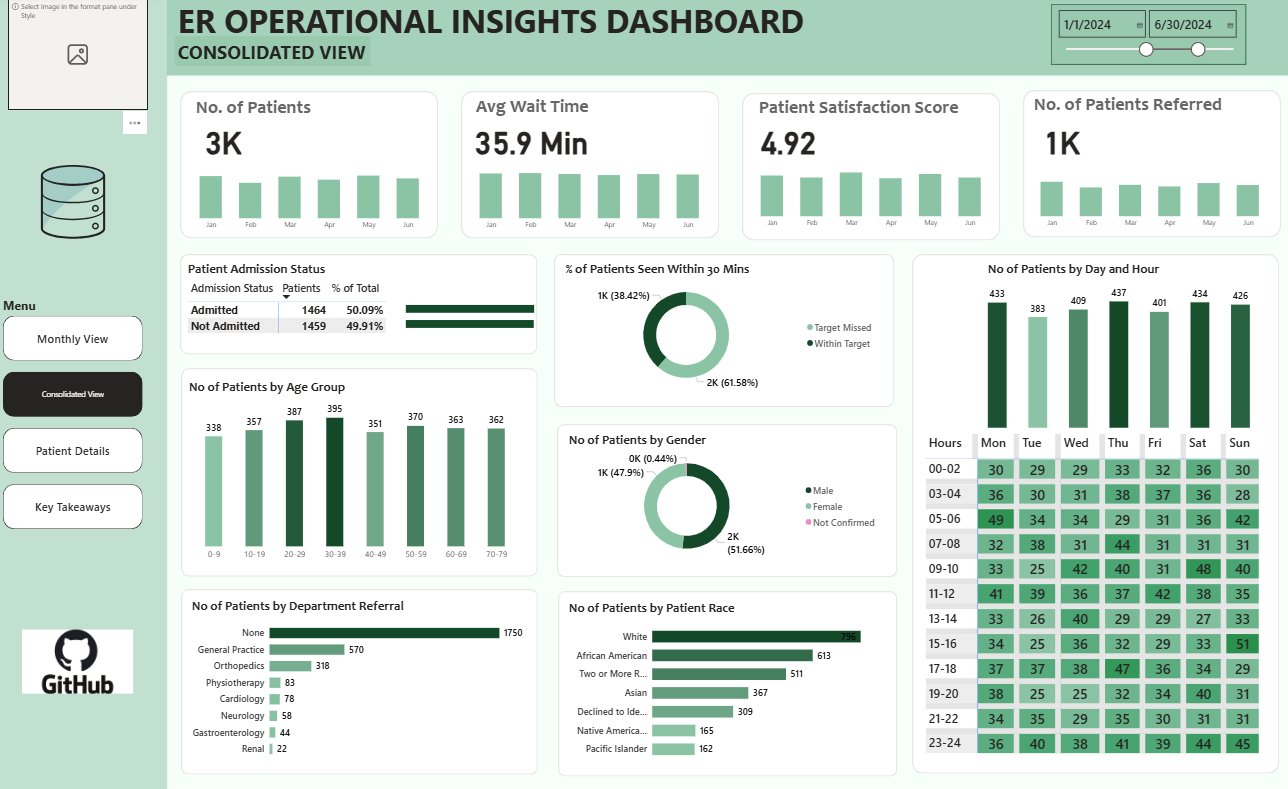

This screenshot's page, from the dashboard's own definition file:
{"tool":"powerbi","page":{"name":"Consolidated View","canvas":[2300,1400],"ordinal":1},"visuals":[{"type":"shape","box":[0,0,309.1,1400],"z":0},{"type":"shape","box":[309.1,0,1990.9,140],"z":1000},{"type":"shape","box":[1621.8,454.5,647.3,916.4],"z":2000},{"type":"textbox","box":[321.8,0,1209.1,107.3],"z":3000},{"type":"shape","box":[330.9,167.3,455,260],"z":4000},{"type":"textbox","box":[321.8,70.9,345.5,52.7],"z":5000},{"type":"cardVisual","fields":{"Data":["Hospital ER_Data.No of Patients"]},"box":[332.7,209.1,150.9,94.5],"z":6000},{"type":"slicer","fields":{"Values":["Date Table.Date"]},"box":[1867.3,14.5,343.6,107.3],"z":7000},{"type":"textbox","box":[354.5,170.9,240,60],"z":8000},{"type":"columnChart","fields":{"Category":["Date Table.Month"],"Y":["Hospital ER_Data.No of Patients"]},"box":[332.7,290.9,454.5,130.9],"z":9000},{"type":"shape","box":[826.4,168.2,455,260],"z":10000},{"type":"cardVisual","fields":{"Data":["Hospital ER_Data.Avg Wait Time"]},"box":[816.4,209.1,270.9,94.5],"z":11000},{"type":"textbox","box":[847.3,169.1,240,61.8],"z":12000},{"type":"shape","box":[330.9,454.5,630,177],"z":13000},{"type":"shape","box":[1321.8,170.9,455,260],"z":14000},{"type":"cardVisual","fields":{"Data":["Avg(Hospital ER_Data.Patient Satisfaction Score)"]},"box":[1312.7,209.1,181.8,94.5],"z":15000},{"type":"textbox","box":[1347.3,170.9,390.9,56.4],"z":16000},{"type":"columnChart","fields":{"Category":["Date Table.Month"],"Y":["Avg(Hospital ER_Data.Patient Satisfaction Score)"]},"box":[1321.8,287.3,456.4,130.9],"z":17000},{"type":"shape","box":[1817.3,165.5,455,260],"z":18000},{"type":"cardVisual","fields":{"Data":["Hospital ER_Data.No of Patients Referred"]},"box":[1796.4,209.1,180,94.5],"z":19000},{"type":"textbox","box":[1832.7,165.5,378.2,67.3],"z":20000},{"type":"columnChart","fields":{"Category":["Date Table.Month"],"Y":["Hospital ER_Data.No of Patients Referred"]},"box":[1816.4,289.1,452.7,129.1],"z":21000},{"type":"columnChart","fields":{"Category":["Date Table.Month"],"Y":["Avg(Hospital ER_Data.Patient Waittime)"]},"box":[827.3,290.9,454.5,130.9],"z":22000},{"type":"pivotTable","title":"Patient Admission Status","fields":{"Rows":["Hospital ER_Data.Admission Status"],"Values":["Hospital ER_Data.No of Patients1","Hospital ER_Data.No of Patients"]},"box":[340,467.3,601.8,150.9],"z":23000},{"type":"barChart","fields":{"Category":["Hospital ER_Data.Admission Status"],"Y":["Hospital ER_Data.No of Patients"]},"box":[725.5,518.2,241.8,87.3],"z":24000},{"type":"shape","box":[332.7,656.4,629.1,368],"z":25000},{"type":"clusteredColumnChart","fields":{"Category":["Hospital ER_Data.Age Group"],"Y":["Hospital ER_Data.No of Patients"]},"box":[347.3,674.5,587.3,329.1],"z":26000},{"type":"shape","box":[332.7,1045.5,629.1,327.3],"z":27000},{"type":"clusteredBarChart","fields":{"Category":["Hospital ER_Data.Department Referral"],"Y":["Hospital ER_Data.No of Patients"]},"box":[347.3,1061.8,594.5,292.7],"z":28000},{"type":"shape","box":[990.9,454.5,600,270],"z":29000},{"type":"donutChart","title":"% of Patients Seen Within 30 Mins","fields":{"Category":["Hospital ER_Data.Waittime Status"],"Y":["Hospital ER_Data.No of Patients"]},"box":[1007.3,467.3,558.2,232.7],"z":30000},{"type":"shape","box":[995.5,755.5,600,270],"z":31000},{"type":"donutChart","title":"No of Patients by Gender","fields":{"Y":["Hospital ER_Data.No of Patients"],"Category":["Hospital ER_Data.Patient Gender"]},"box":[1011.8,768.2,558.2,232.7],"z":32000},{"type":"shape","box":[998.2,1049.1,598.2,327.3],"z":33000},{"type":"clusteredBarChart","fields":{"Y":["Hospital ER_Data.No of Patients"],"Category":["Hospital ER_Data.Patient Race"]},"box":[1012.7,1065.5,556.4,292.7],"z":34000},{"type":"pivotTable","fields":{"Rows":["Hospital ER_Data.Waittime Interval"],"Columns":["Date Table.Day Name"],"Values":["Hospital ER_Data.No of Patients"]},"box":[1641.8,767.3,605.5,585.5],"z":35000},{"type":"columnChart","title":"No of Patients by Day and Hour","fields":{"Category":["Date Table.Day Name"],"Y":["Hospital ER_Data.No of Patients"]},"box":[1750.9,467.3,474.5,300],"z":36000},{"type":"pageNavigator","title":"Menu","box":[19.4,530.7,246.9,412.6],"z":37000},{"type":"image","box":[45.8,298,194,130.5],"z":38000},{"type":"image","box":[28.2,5.3,246.9,195.7],"z":39000},{"type":"image","box":[52.9,1086.1,195.7,174.6],"z":39001}]}

Visuals, with their boxes on the page's 2300x1400 design canvas (x1, y1, x2, y2). These are canvas units, not pixel positions in the 1288x789 screenshot, which may show the page scaled, cropped or inside an application window:
shape: [left=0, top=0, right=309, bottom=1400]
shape: [left=309, top=0, right=2300, bottom=140]
shape: [left=1622, top=454, right=2269, bottom=1371]
textbox: [left=322, top=0, right=1531, bottom=107]
shape: [left=331, top=167, right=786, bottom=427]
textbox: [left=322, top=71, right=667, bottom=124]
cardVisual - Hospital ER_Data.No of Patients: [left=333, top=209, right=484, bottom=304]
slicer - Date Table.Date: [left=1867, top=14, right=2211, bottom=122]
textbox: [left=354, top=171, right=594, bottom=231]
columnChart - Date Table.Month x Hospital ER_Data.No of Patients: [left=333, top=291, right=787, bottom=422]
shape: [left=826, top=168, right=1281, bottom=428]
cardVisual - Hospital ER_Data.Avg Wait Time: [left=816, top=209, right=1087, bottom=304]
textbox: [left=847, top=169, right=1087, bottom=231]
shape: [left=331, top=454, right=961, bottom=632]
shape: [left=1322, top=171, right=1777, bottom=431]
cardVisual - Avg(Hospital ER_Data.Patient Satisfaction Score): [left=1313, top=209, right=1494, bottom=304]
textbox: [left=1347, top=171, right=1738, bottom=227]
columnChart - Date Table.Month x Avg(Hospital ER_Data.Patient Satisfaction Score): [left=1322, top=287, right=1778, bottom=418]
shape: [left=1817, top=166, right=2272, bottom=426]
cardVisual - Hospital ER_Data.No of Patients Referred: [left=1796, top=209, right=1976, bottom=304]
textbox: [left=1833, top=166, right=2211, bottom=233]
columnChart - Date Table.Month x Hospital ER_Data.No of Patients Referred: [left=1816, top=289, right=2269, bottom=418]
columnChart - Date Table.Month x Avg(Hospital ER_Data.Patient Waittime): [left=827, top=291, right=1282, bottom=422]
"Patient Admission Status" pivotTable: [left=340, top=467, right=942, bottom=618]
barChart - Hospital ER_Data.Admission Status x Hospital ER_Data.No of Patients: [left=726, top=518, right=967, bottom=606]
shape: [left=333, top=656, right=962, bottom=1024]
clusteredColumnChart - Hospital ER_Data.Age Group x Hospital ER_Data.No of Patients: [left=347, top=674, right=935, bottom=1004]
shape: [left=333, top=1046, right=962, bottom=1373]
clusteredBarChart - Hospital ER_Data.Department Referral x Hospital ER_Data.No of Patients: [left=347, top=1062, right=942, bottom=1354]
shape: [left=991, top=454, right=1591, bottom=724]
"% of Patients Seen Within 30 Mins" donutChart: [left=1007, top=467, right=1566, bottom=700]
shape: [left=996, top=756, right=1596, bottom=1026]
"No of Patients by Gender" donutChart: [left=1012, top=768, right=1570, bottom=1001]
shape: [left=998, top=1049, right=1596, bottom=1376]
clusteredBarChart - Hospital ER_Data.No of Patients x Hospital ER_Data.Patient Race: [left=1013, top=1066, right=1569, bottom=1358]
pivotTable - Hospital ER_Data.Waittime Interval x Date Table.Day Name: [left=1642, top=767, right=2247, bottom=1353]
"No of Patients by Day and Hour" columnChart: [left=1751, top=467, right=2225, bottom=767]
"Menu" pageNavigator: [left=19, top=531, right=266, bottom=943]
image: [left=46, top=298, right=240, bottom=428]
image: [left=28, top=5, right=275, bottom=201]
image: [left=53, top=1086, right=249, bottom=1261]
